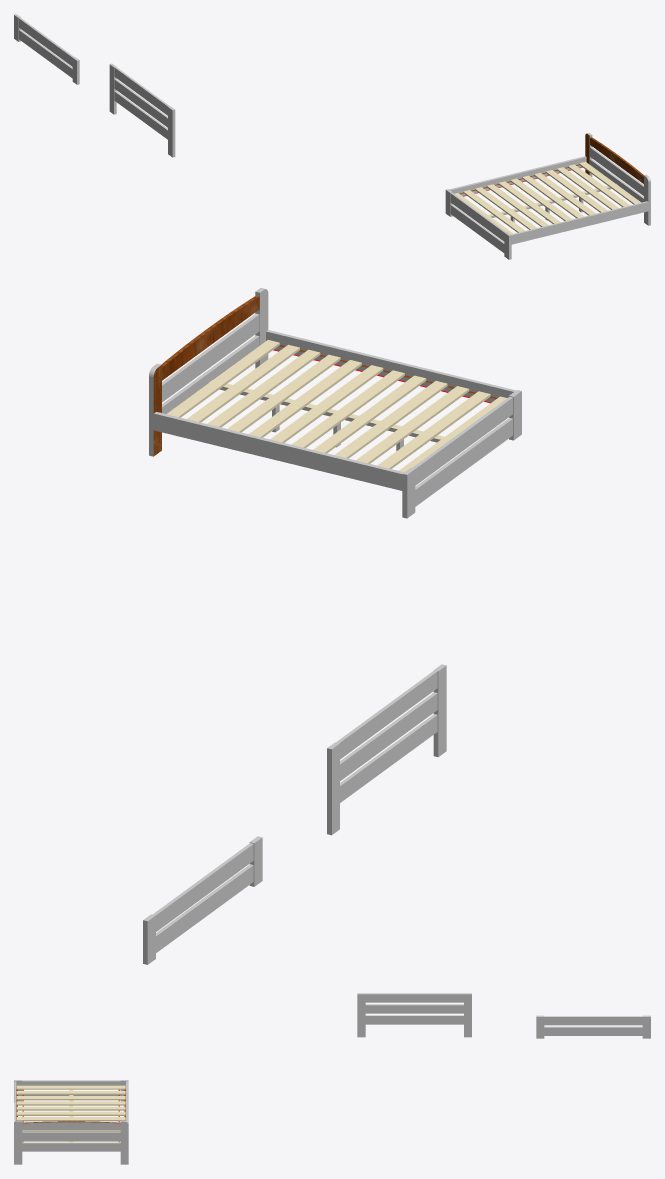
Rendered from bed3gltf.gltf.
3 renders of one model, top to bottom at view 1: azimuth 30°, elevation 25°; view 2: azimuth 150°, elevation 25°; view 3: azimuth 270°, elevation 25°, orthographic. The views are drawn at different scales.
Parts seen in each view (by area): view 1: bed3.001; view 2: bed3.001; view 3: bed3.001.
Boxes of the visible parts, bbox=[...] form: bed3.001: bbox=[14, 14, 650, 259]; bed3.001: bbox=[143, 288, 521, 964]; bed3.001: bbox=[14, 993, 650, 1164].
Size of the model in its own units: 4.42 by 0.69 by 9.27.
7 materials, 2 textured.
